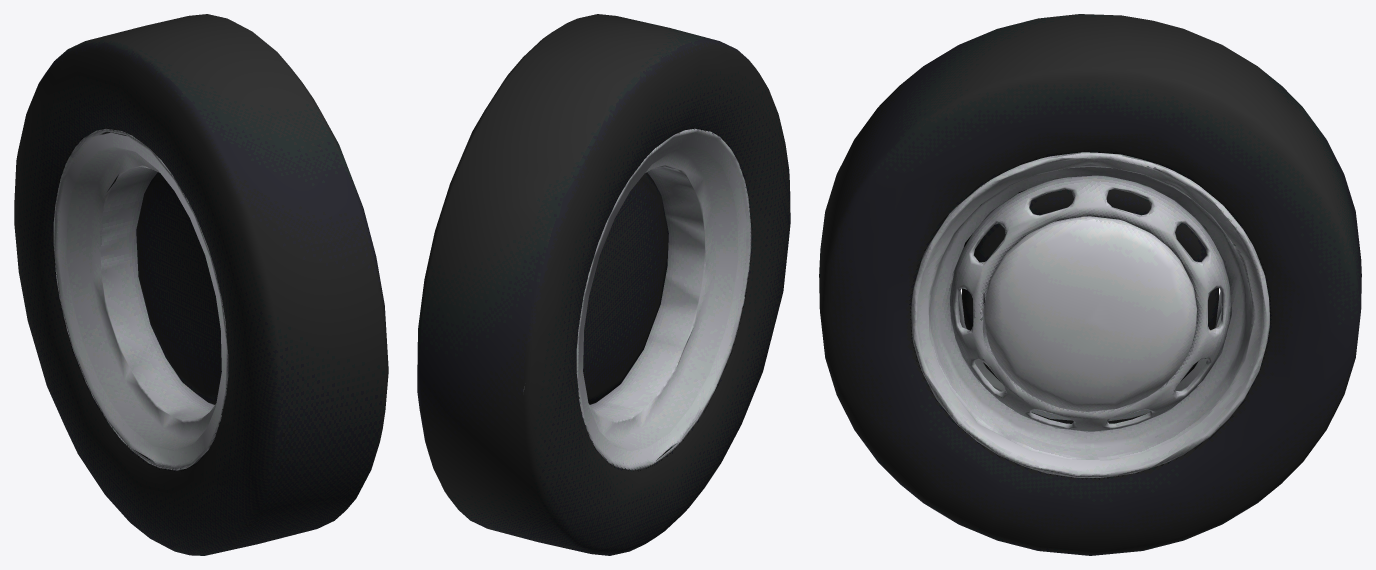
Rendered from wheel_rear_right.glb.
The picture shows the model from 3 angles, left to right: view 1: azimuth 30°, elevation 25°; view 2: azimuth 150°, elevation 25°; view 3: azimuth 270°, elevation 25°; orthographic projection. The views are drawn at different scales.
Visible parts, largest first — view 1: Porsche356_Wheel_rear_right; view 2: Porsche356_Wheel_rear_right; view 3: Porsche356_Wheel_rear_right.
Part boxes in pixels (box(x1,y1,x2,y2)): Porsche356_Wheel_rear_right: box(14, 14, 388, 555); Porsche356_Wheel_rear_right: box(417, 14, 790, 555); Porsche356_Wheel_rear_right: box(819, 14, 1361, 555).
Bounding box in the file's own units: 0.1967 × 0.6251 × 0.6252.
1 material, 1 textured.
